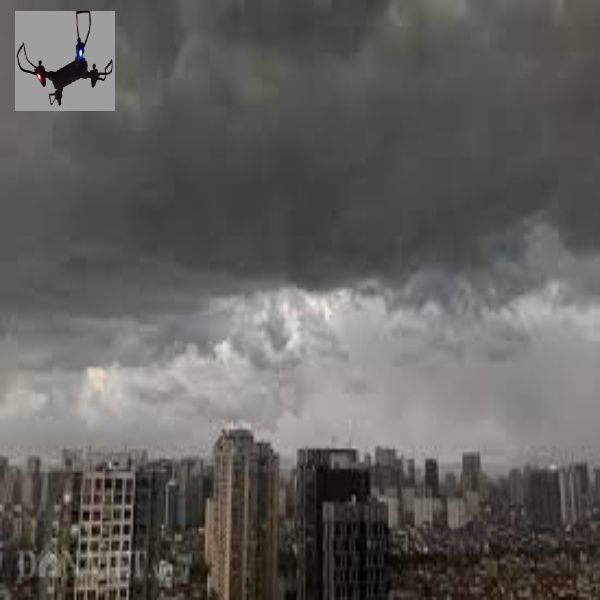drone: (17, 13, 115, 112)
